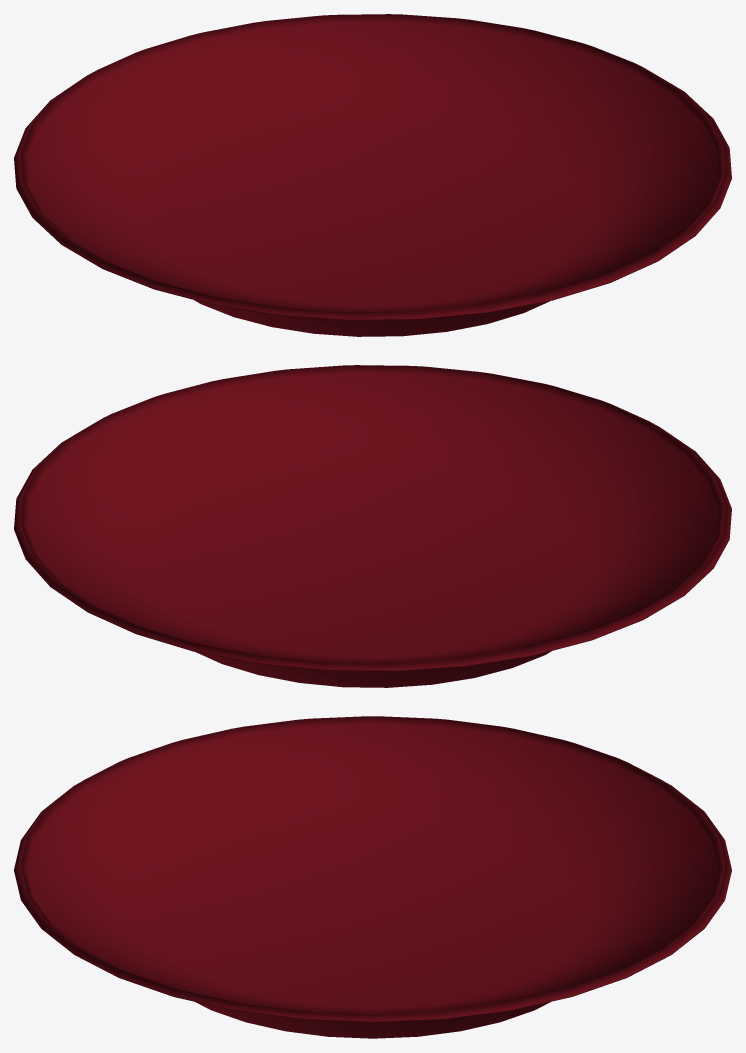
The model's file is betterPlate.fbx.
3 renders of one model, top to bottom at view 1: azimuth 30°, elevation 25°; view 2: azimuth 150°, elevation 25°; view 3: azimuth 270°, elevation 25°, orthographic.
Visible parts, largest first — view 1: plate; view 2: plate; view 3: plate.
Part boxes in pixels (x1,y1,x2,y2): plate: (14, 14, 731, 336); plate: (14, 365, 731, 687); plate: (14, 716, 731, 1038).
Bounding box in the file's own units: 314 × 37.16 × 314.
